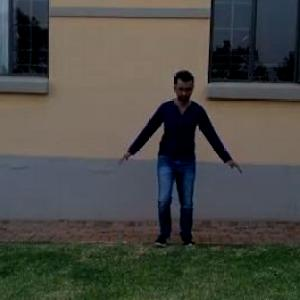land: (113, 69, 251, 252)
